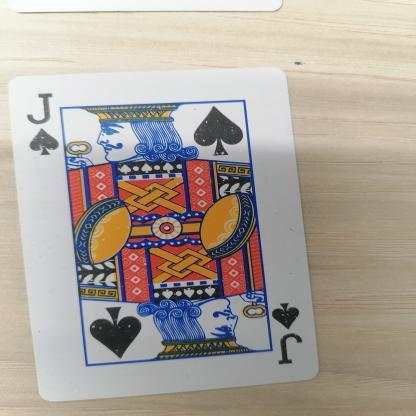JS: (23, 85, 72, 177), (270, 292, 316, 369)
